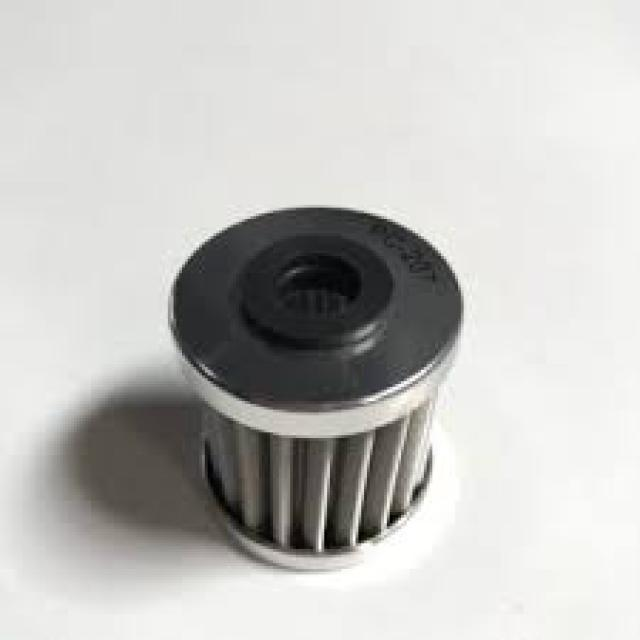oil_filter: (159, 189, 466, 580)
